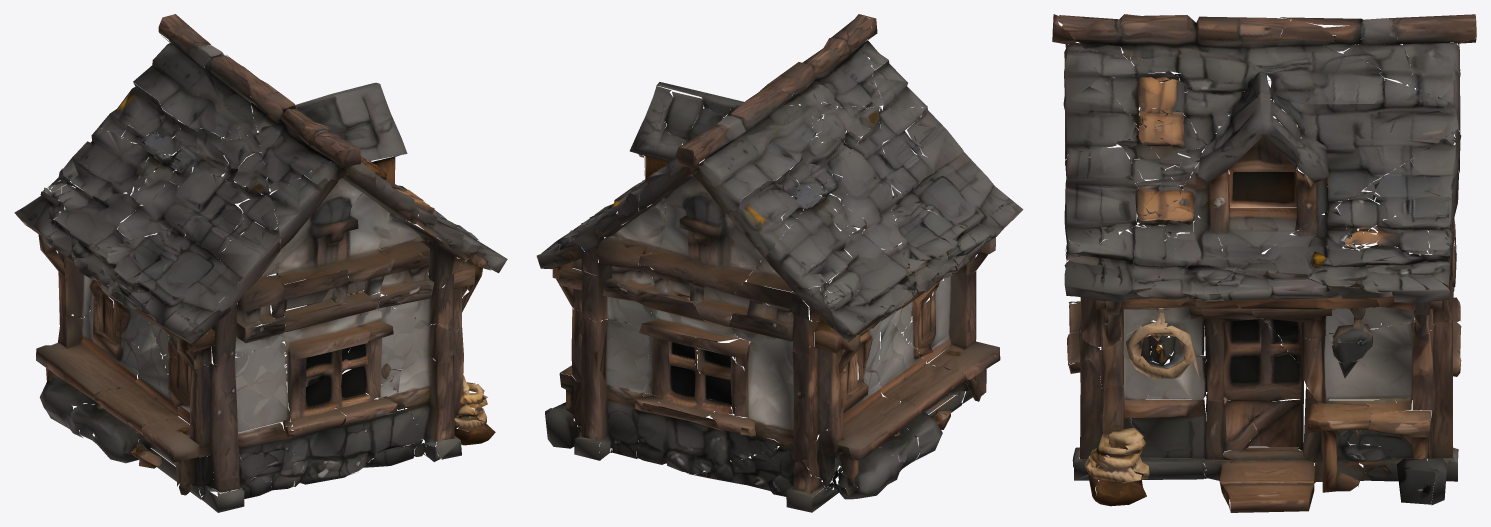
Rendered from chandlery.glb.
The picture shows the model from 3 angles, left to right: view 1: azimuth 30°, elevation 25°; view 2: azimuth 150°, elevation 25°; view 3: azimuth 270°, elevation 25°; orthographic projection. The views are drawn at different scales.
Visible parts, largest first — view 1: tripo_node_735014c3-cdc4-4693-a64a-22ef65d95542; view 2: tripo_node_735014c3-cdc4-4693-a64a-22ef65d95542; view 3: tripo_node_735014c3-cdc4-4693-a64a-22ef65d95542.
Part boxes in pixels (x1=…): tripo_node_735014c3-cdc4-4693-a64a-22ef65d95542: x1=14, y1=14, x2=507, y2=512; tripo_node_735014c3-cdc4-4693-a64a-22ef65d95542: x1=536, y1=14, x2=1023, y2=512; tripo_node_735014c3-cdc4-4693-a64a-22ef65d95542: x1=1052, y1=14, x2=1476, y2=512.
Bounding box in the file's own units: 5.16 × 4.99 × 4.8.
1 material, 1 textured.
